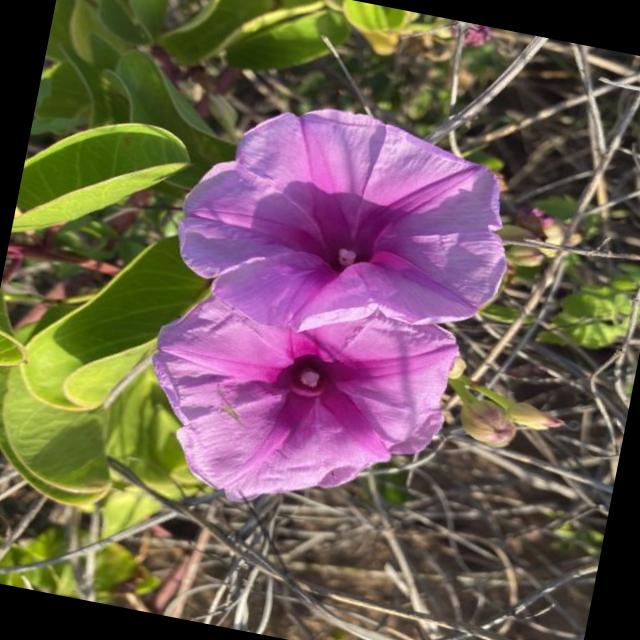ipomoea: (120, 80, 536, 547)
